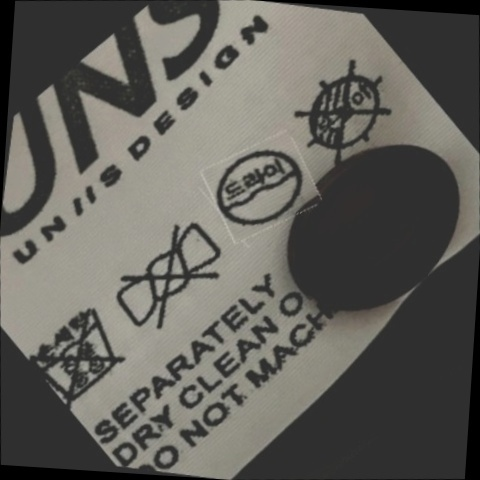DN_dry: (285, 54, 402, 171)
DN_wring: (103, 213, 235, 344)
dry_clean: (208, 134, 313, 242)
hand_wash: (26, 291, 137, 410)
